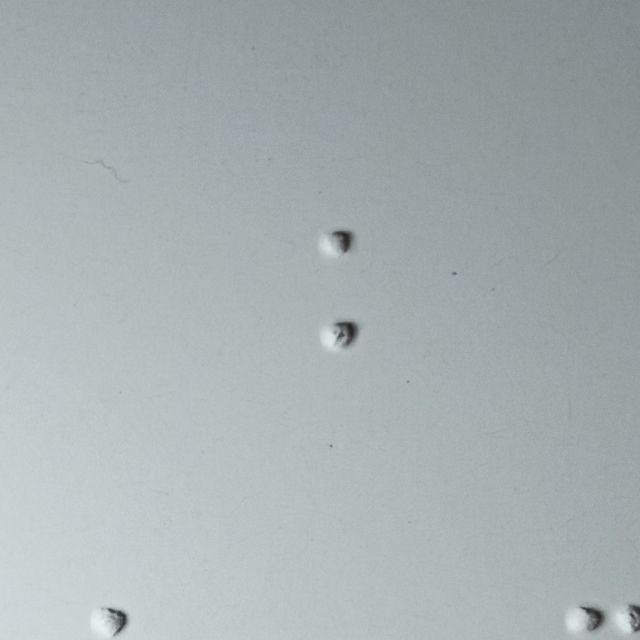k: (318, 229, 409, 356)
